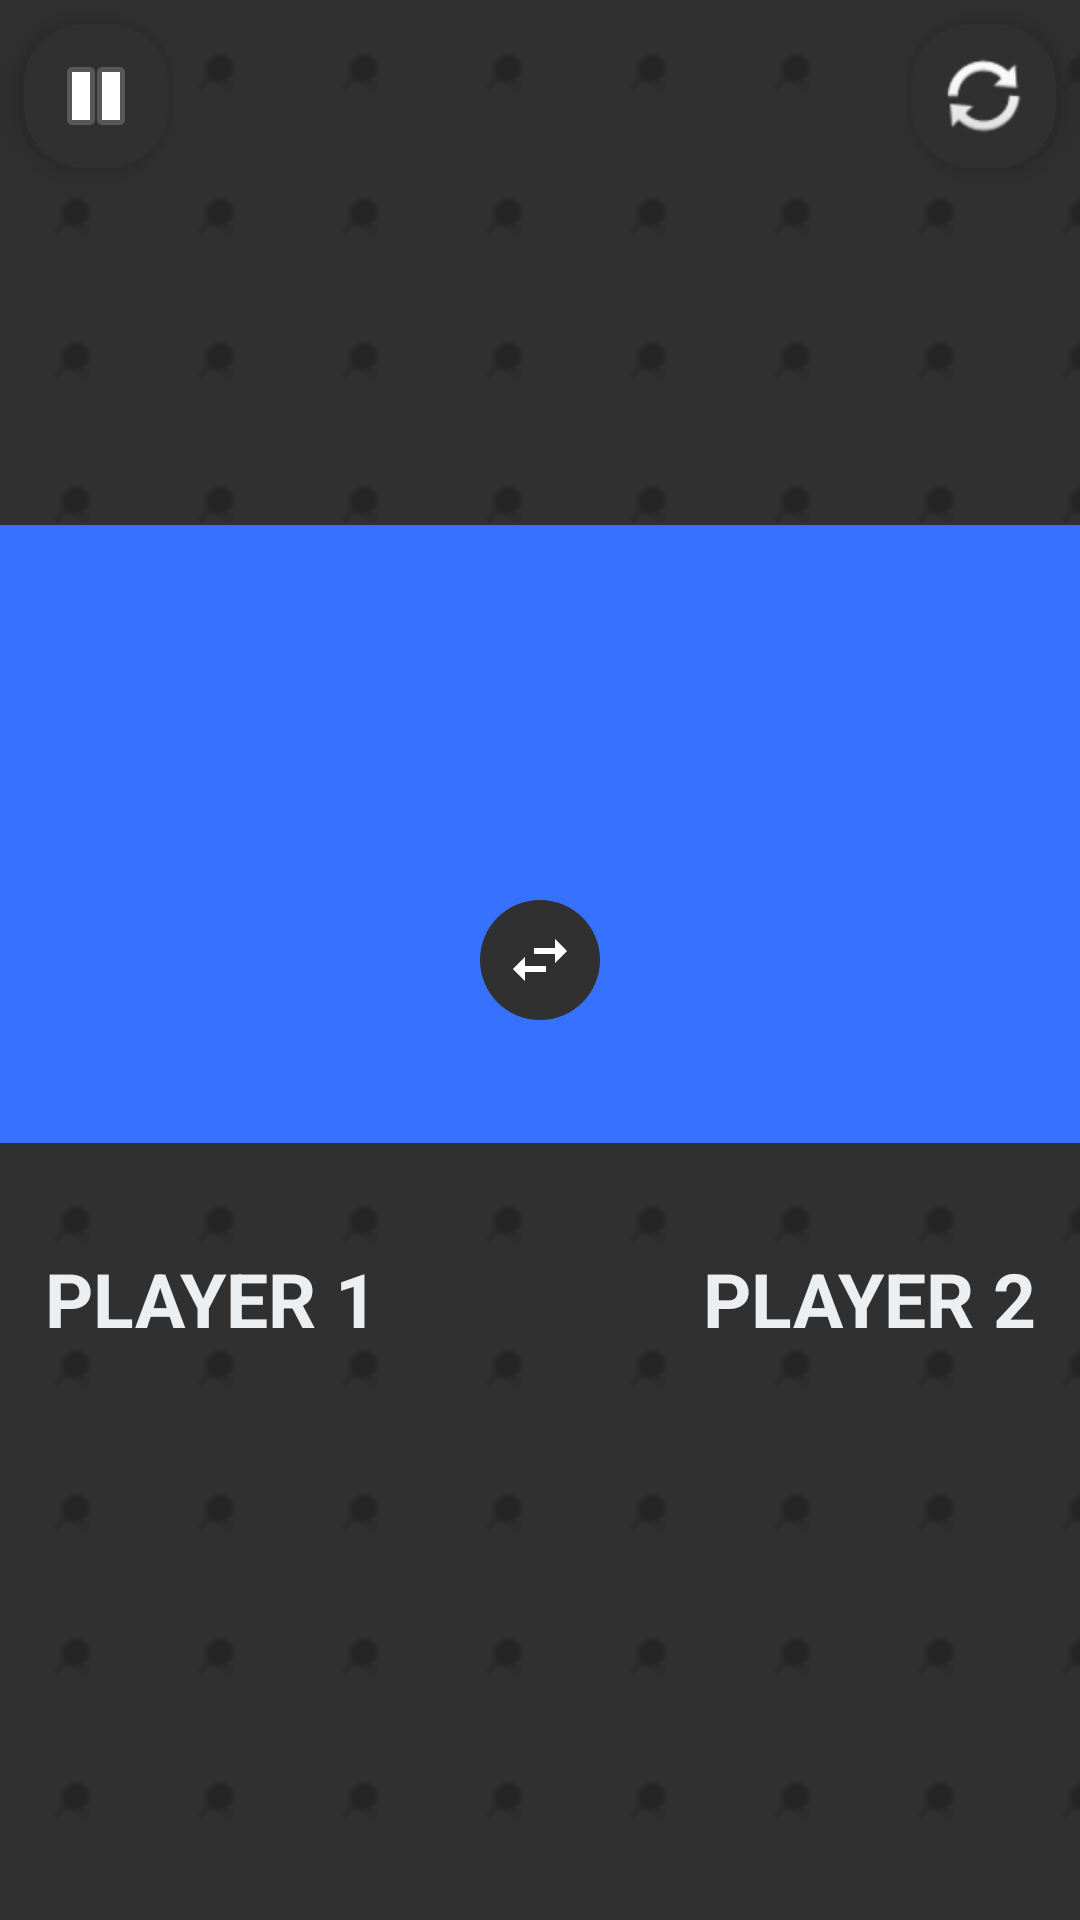

Icon bounding boxes for this 1080*1920 phone screenshot, format (x1,y1,x2,y2):
Pause / Resume Button: (67,67,125,125)
Refresh Button: (947,60,1020,132)
